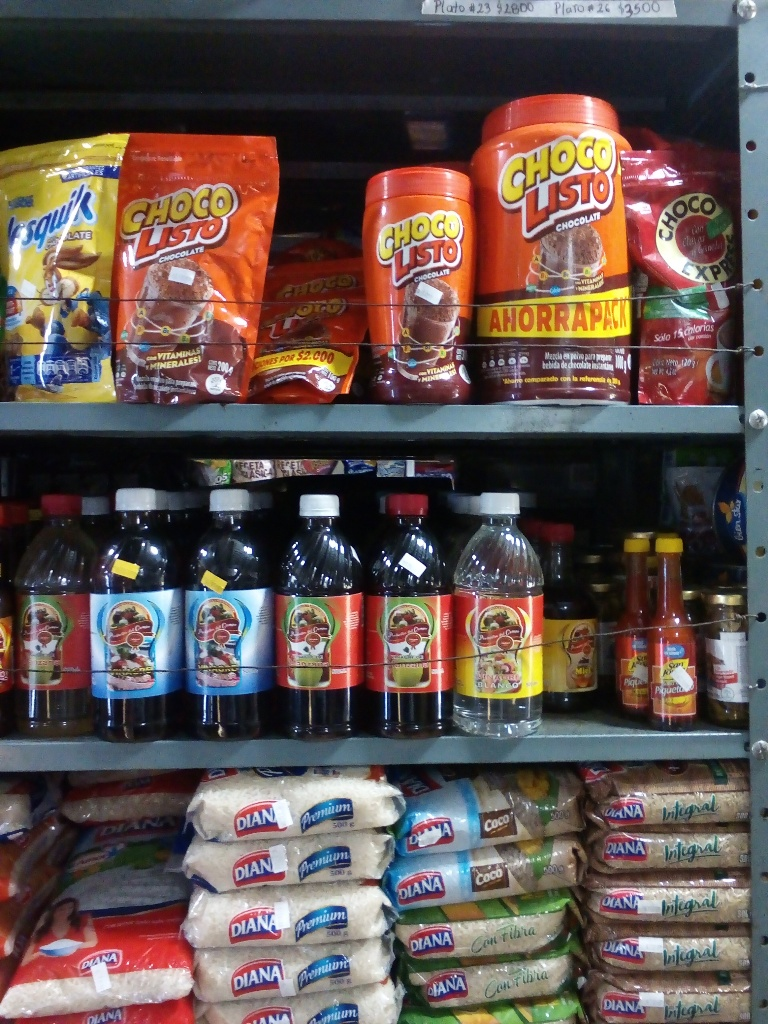COL0170103TRR00100: (469, 93, 635, 404)
COL0170303DYP20000: (2, 126, 122, 404)
